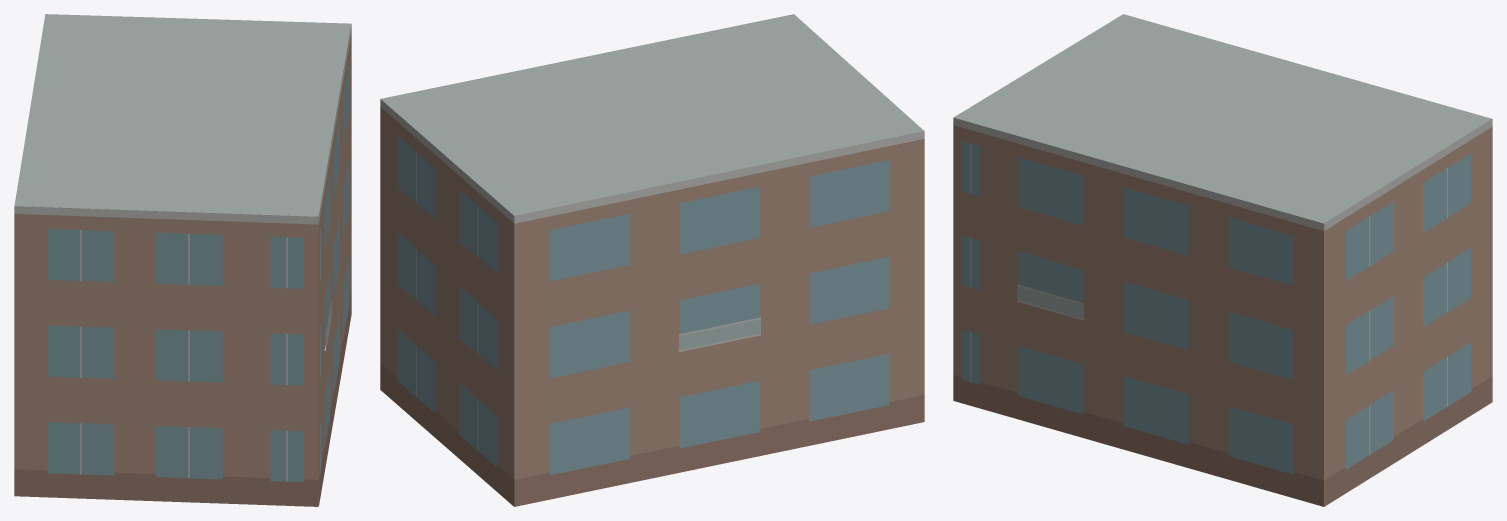
The model's file is survey-upis-32488085.glb.
3 renders of one model, left to right at view 1: azimuth 30°, elevation 25°; view 2: azimuth 150°, elevation 25°; view 3: azimuth 270°, elevation 25°, orthographic. The views are drawn at different scales.
Visible parts, largest first — view 1: survey-upis-32488085.tmp; view 2: survey-upis-32488085.tmp; view 3: survey-upis-32488085.tmp.
Part boxes in pixels (left/top/right/bottom): survey-upis-32488085.tmp: left=14, top=14, right=351, bottom=506; survey-upis-32488085.tmp: left=380, top=14, right=924, bottom=506; survey-upis-32488085.tmp: left=953, top=14, right=1492, bottom=506.
Bounding box in the file's own units: 14.53 × 9.15 × 15.8.
